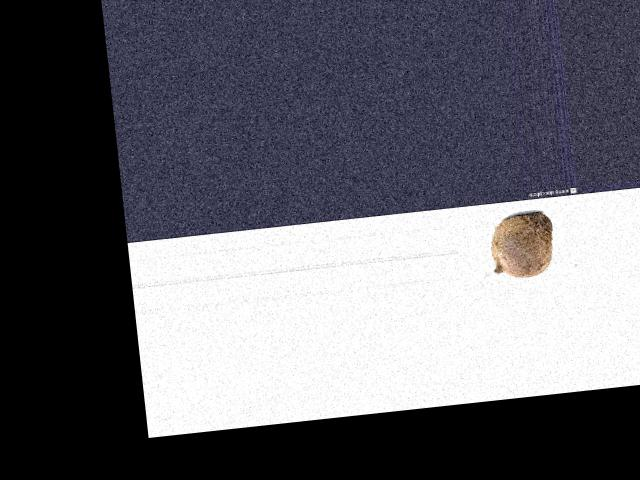beet: (487, 210, 556, 280)
